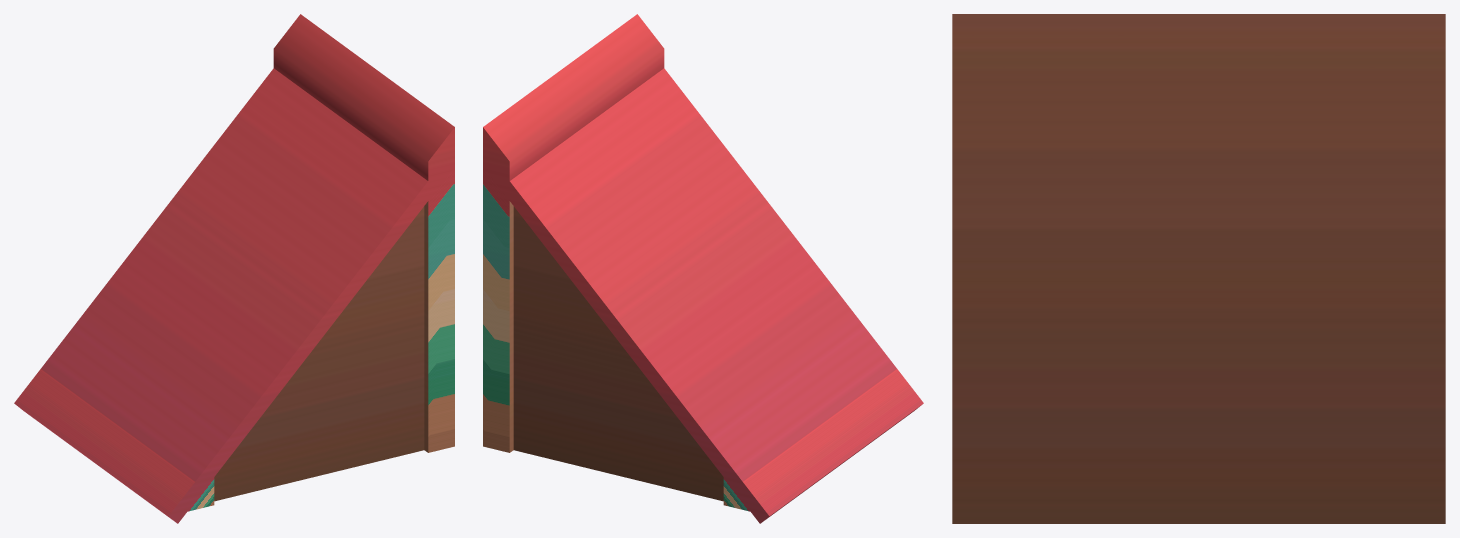
Rendered from roof-high.glb.
3 views of the same model, side by side, from view 1: azimuth 30°, elevation 25°; view 2: azimuth 150°, elevation 25°; view 3: azimuth 270°, elevation 25° (orthographic). The views are drawn at different scales.
Parts seen in each view (by area): view 1: roof-high; view 2: roof-high; view 3: roof-high.
Part boxes in pixels (x1,y1,x2,y2): roof-high: (14,14,454,523); roof-high: (483,14,923,523); roof-high: (952,14,1445,523).
Bounding box in the file's own units: 1.07 × 1.18 × 1.
Materials: 1 (1 with a texture image).
